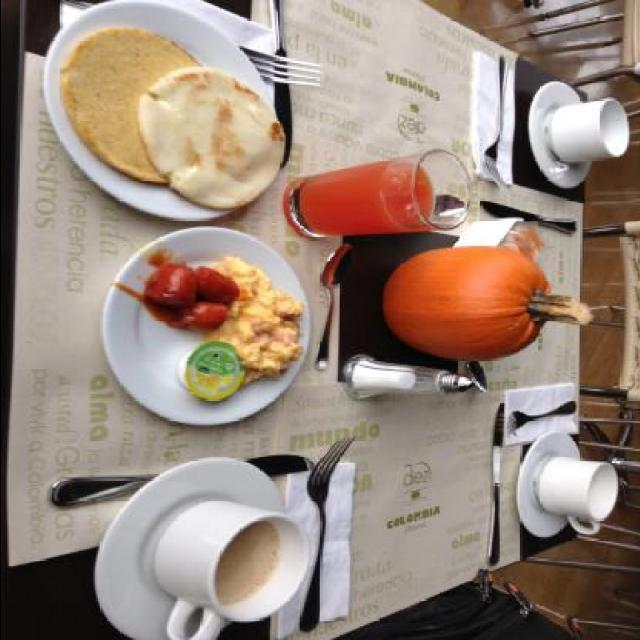Juice: (281, 157, 457, 240)
